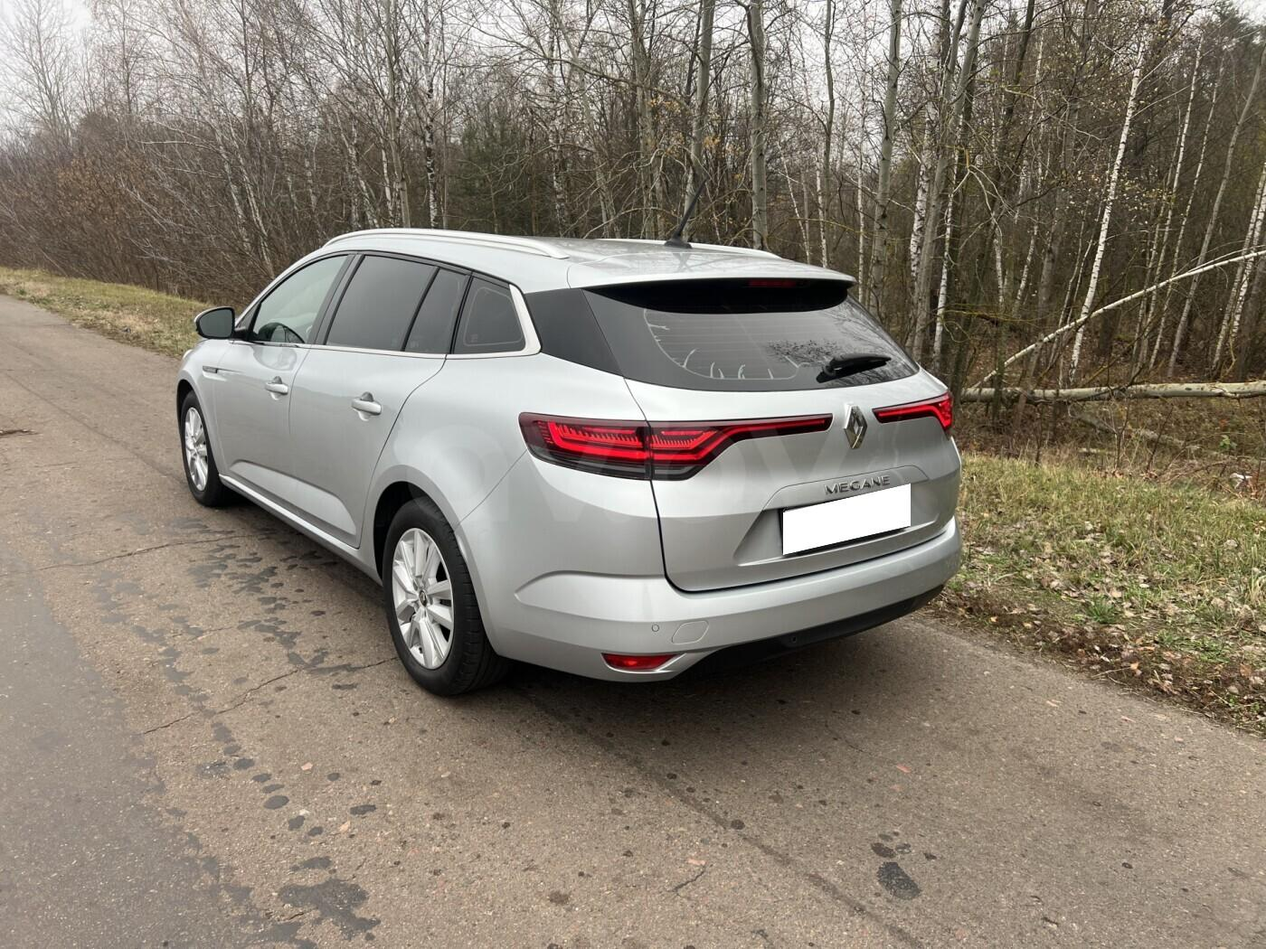Megane_2020: (167, 222, 973, 704)
